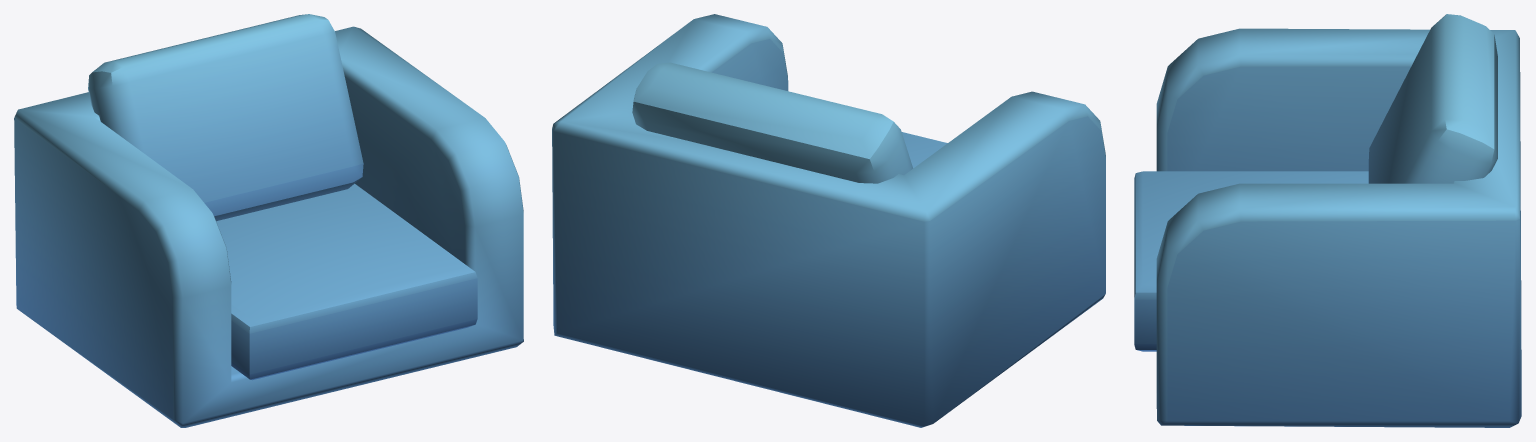
The model's file is cc0-armchair-lod1.glb.
3 views of the same model, side by side, from view 1: azimuth 30°, elevation 25°; view 2: azimuth 150°, elevation 25°; view 3: azimuth 270°, elevation 25° (orthographic). The views are drawn at different scales.
Visible parts, largest first — view 1: part_0; view 2: part_0; view 3: part_0.
Part boxes in pixels (bbox=[...]): part_0: bbox=[14, 14, 523, 427]; part_0: bbox=[552, 14, 1105, 427]; part_0: bbox=[1134, 14, 1521, 427].
Size of the model in its own units: 1.8 by 1.22 by 1.59.
1 material, 1 textured.
